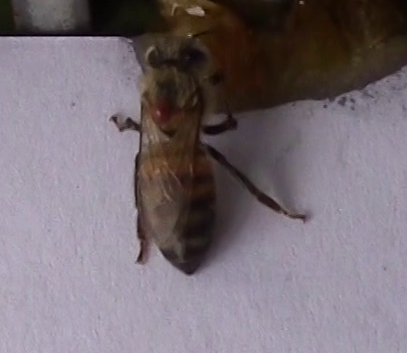Varroa destructor: (147, 95, 176, 127)
